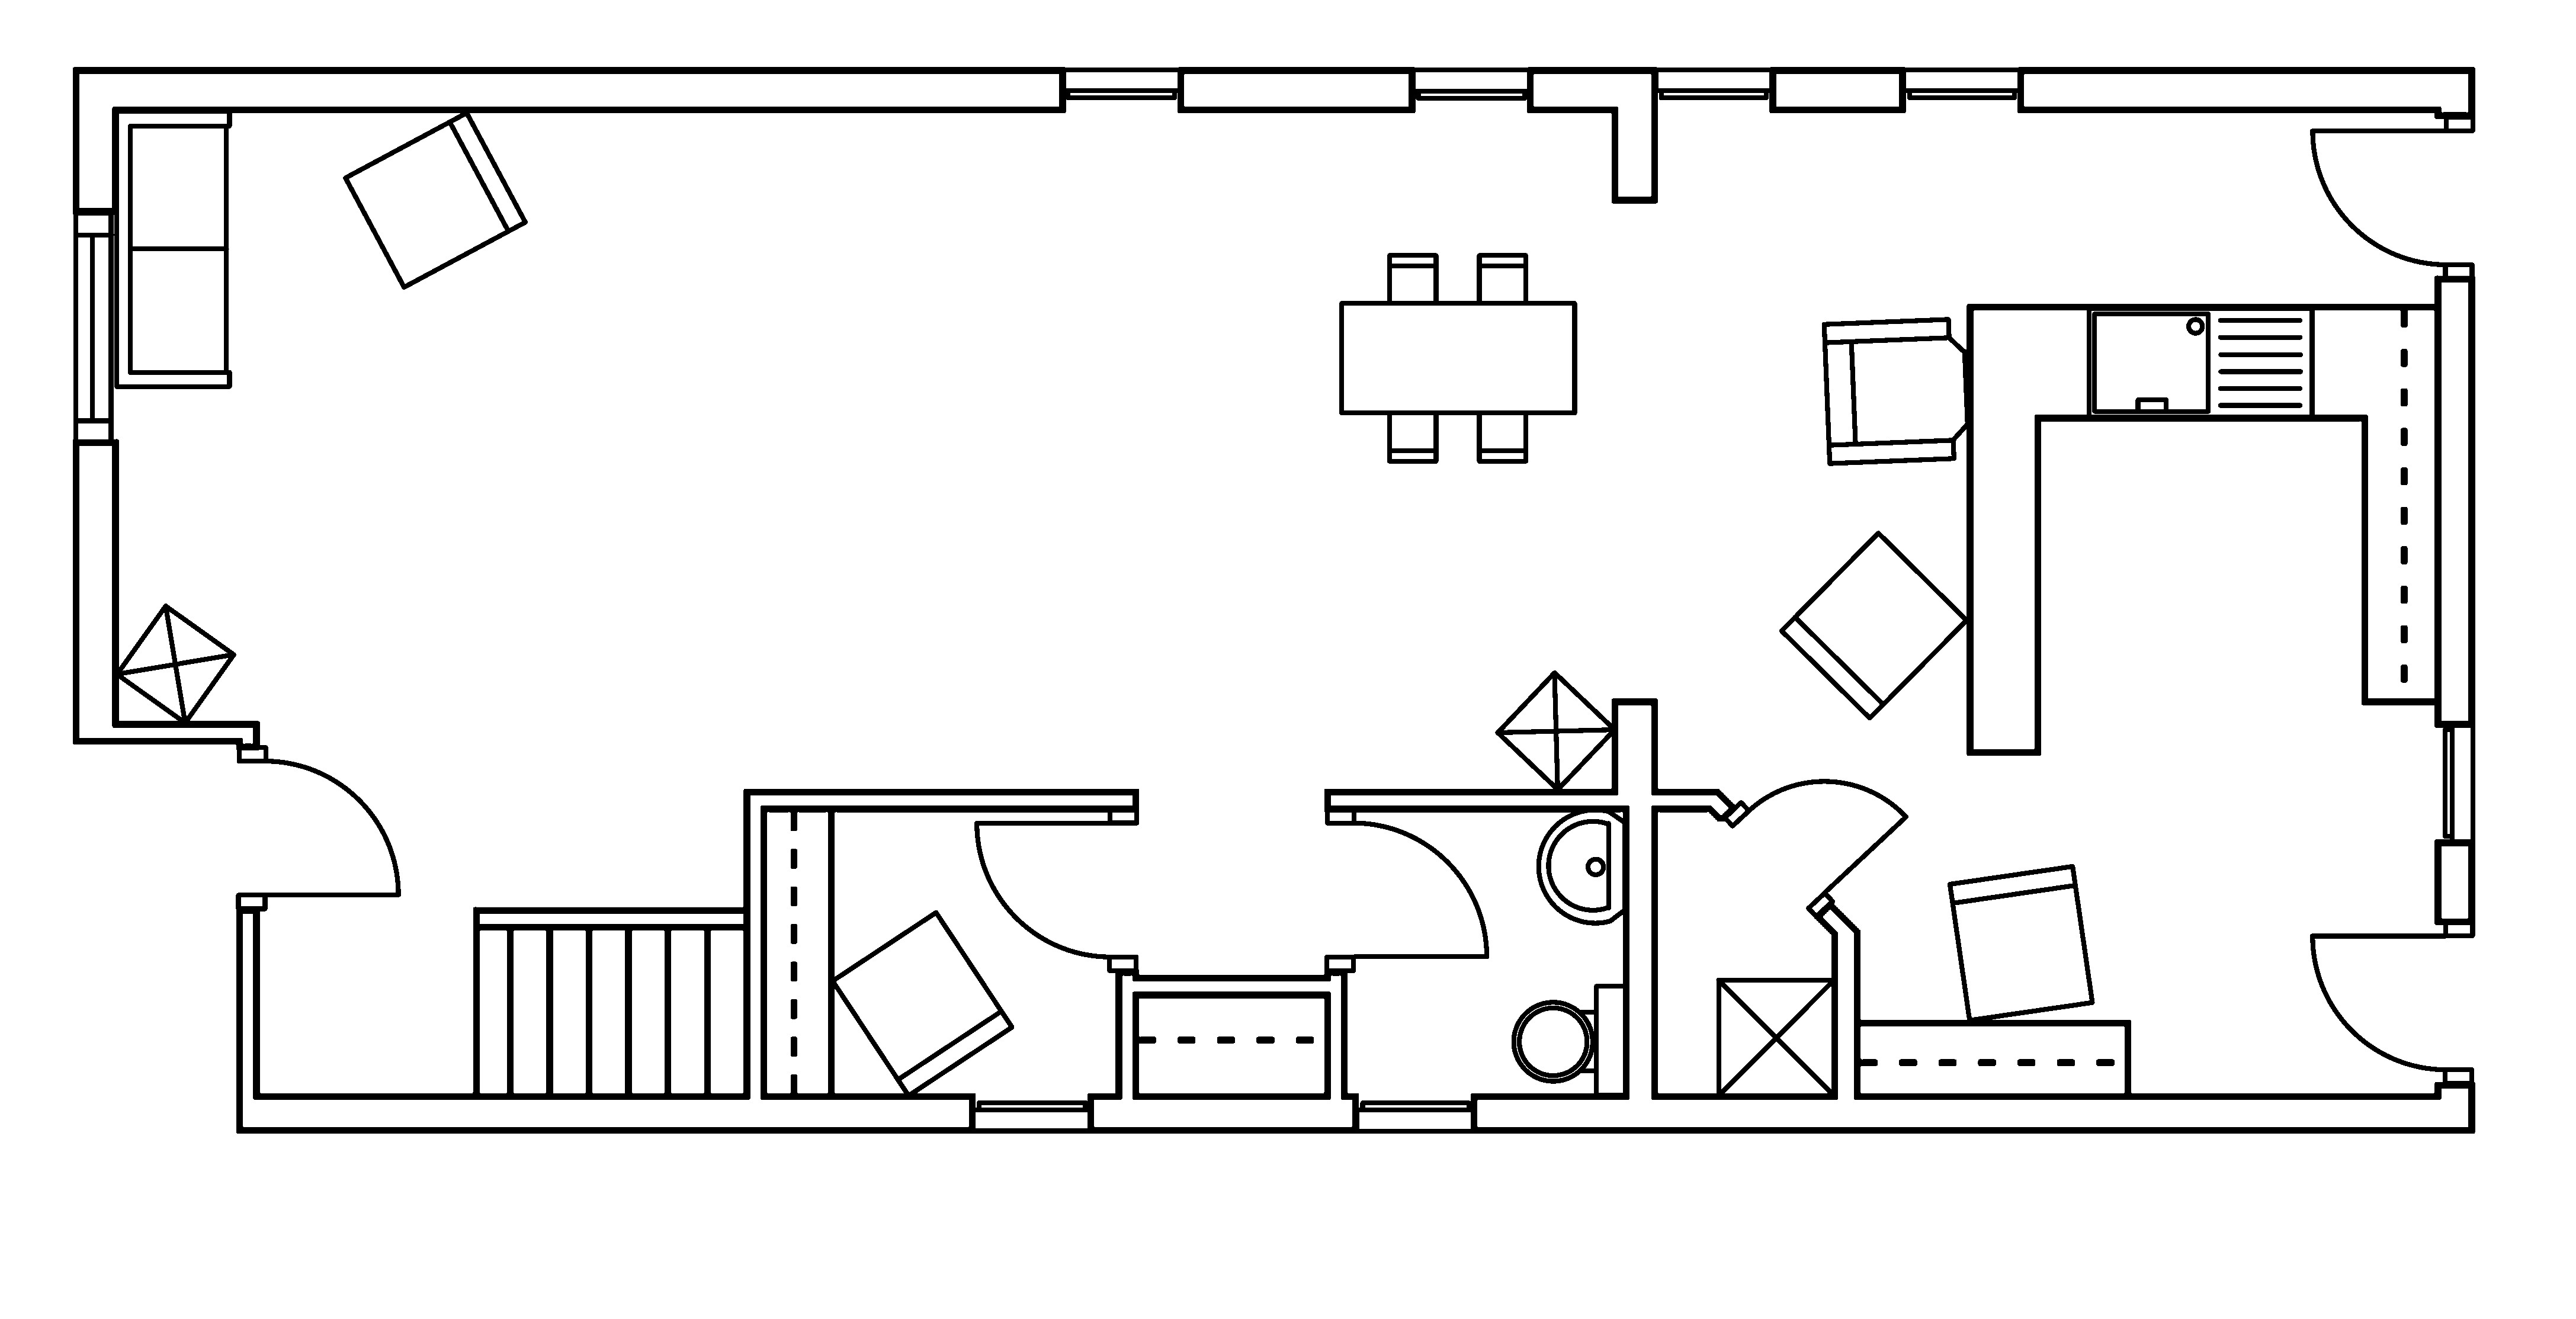armchair: (1821, 316, 1971, 466)
coffee_table: (113, 602, 237, 725), (1493, 670, 1618, 792), (1715, 976, 1836, 1099)
dining_table: (1338, 252, 1577, 464)
large_sink: (1512, 983, 1628, 1097)
large_sofa: (113, 108, 232, 389)
sink: (2085, 305, 2314, 421)
small_sink: (1535, 808, 1628, 925)
small_sofa: (1777, 530, 1969, 720), (829, 908, 1014, 1099), (341, 109, 528, 289), (1947, 863, 2095, 1023)
